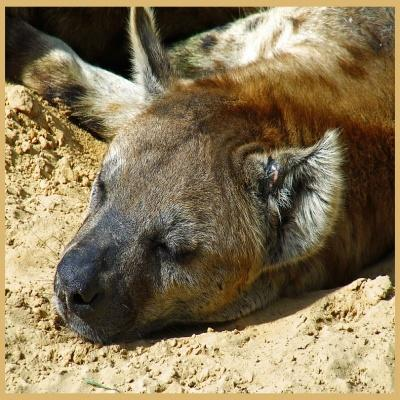hyenas: (22, 2, 400, 366)
